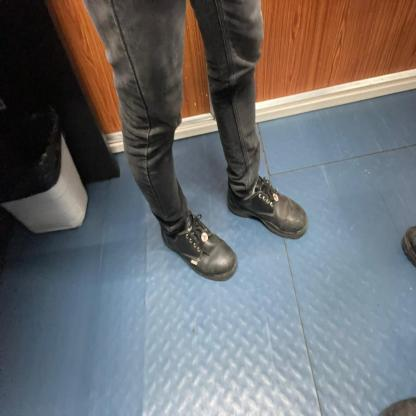bota: (160, 208, 238, 282), (226, 174, 310, 240)
